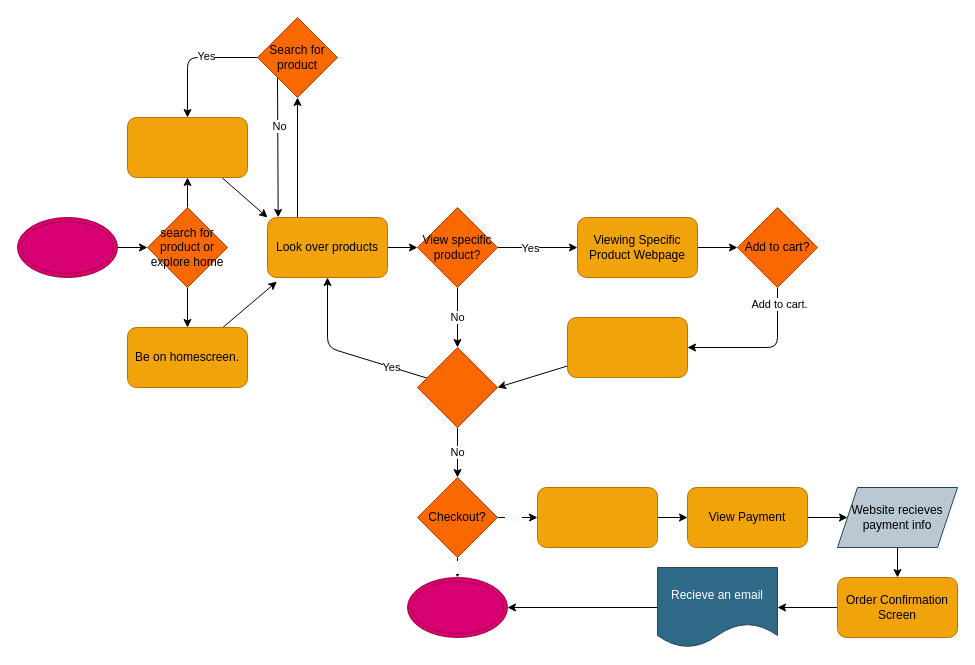
Image size: 975x665. Some labels were removed from this diagram. The centre of each missing label's shape, as x and y in pixels:
"Added to cart confirmation" goes at pixel 627 347.
"Continue Shopping?" goes at pixel 457 387.
"Leave Site" goes at pixel 457 607.
"Search (input search)" goes at pixel 187 147.
"User enters website" goes at pixel 67 247.
"View Cart Screen" goes at pixel 597 517.
